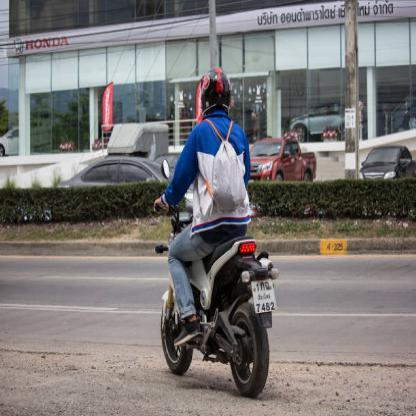Motorcycle: (148, 178, 279, 401)
